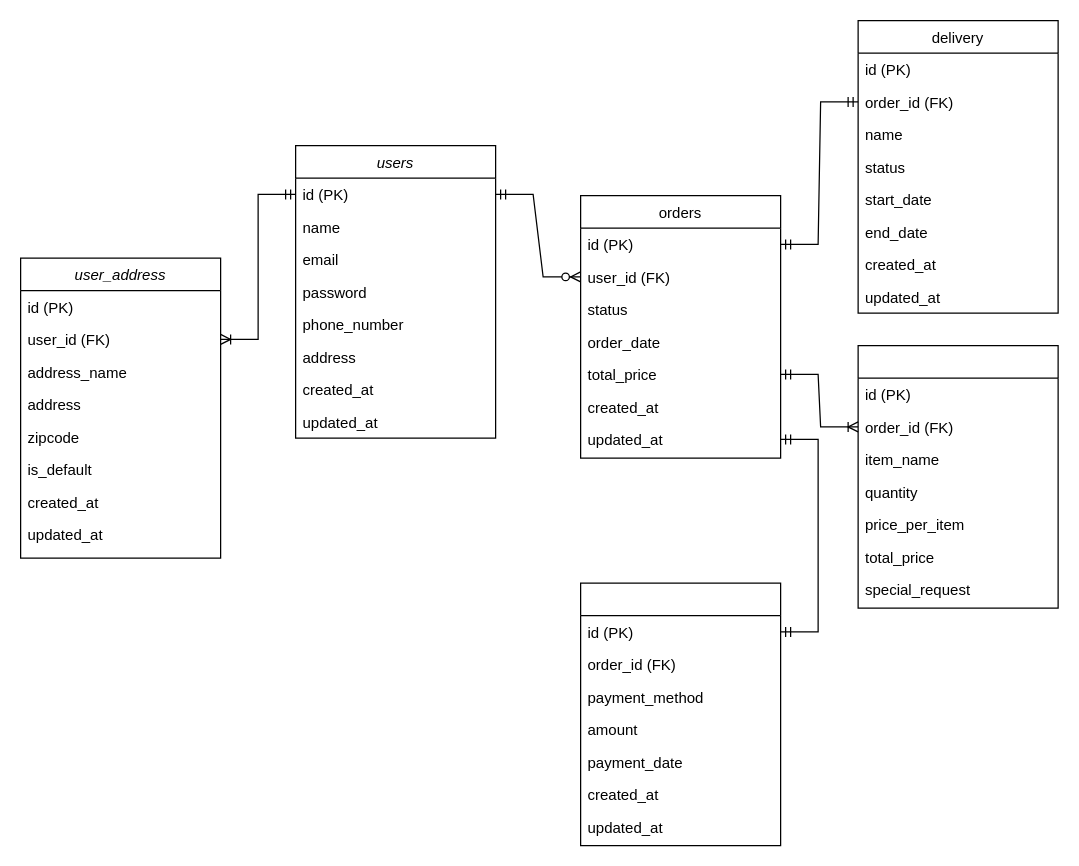
The diagram is 1079 pixels wide and 866 high, and some of its shapes have lost their labels. Each missing label, with the box of its shape:
order_items: (857, 344, 1058, 608)
payments: (579, 582, 781, 846)
